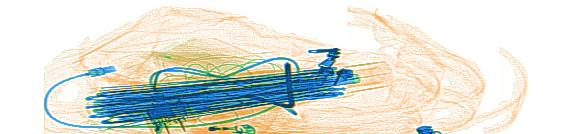lighter: (187, 120, 257, 133)
